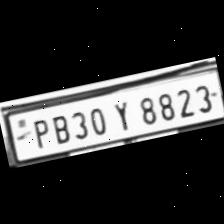0: (83, 100, 111, 136)
2: (170, 82, 196, 118)
3: (189, 78, 214, 114), (66, 104, 90, 140)
8: (132, 90, 160, 126), (151, 86, 176, 122)
B: (46, 109, 72, 144)
P: (26, 113, 52, 148)
Y: (106, 96, 134, 132)
